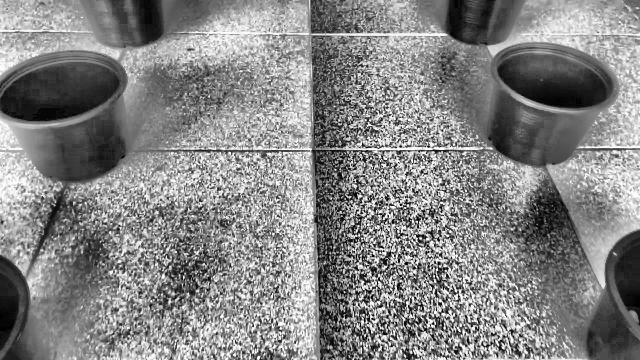pot: (0, 51, 132, 184), (489, 42, 620, 166)
